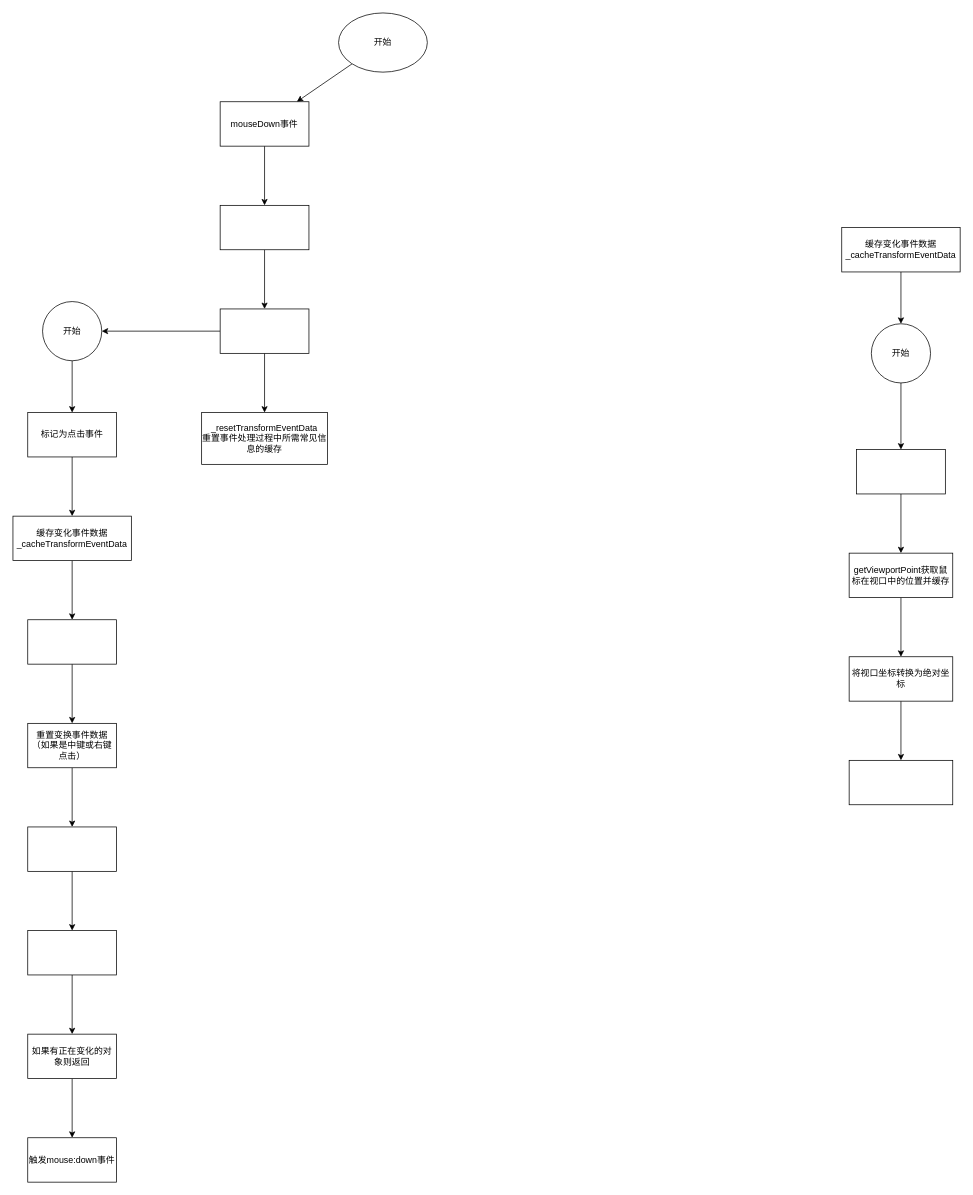
The diagram is 973 pixels wide and 1195 high, and some of its shapes have lost their labels. The shapes that lost their labels are listed below. From the top down, each one's centre as x and y in pixels, then its label:
(264,227): _onMouseDown
(264,330): __onMouseDown
(900,471): _resetTransformEventData
(72,641): down:before事件
(900,782): 查找当前事件的目标对象 findTarget
(72,848): 进入处理绘图模式下的鼠标按下事件（如果是在绘图模式下）
(72,952): 如果是多点触摸，非主要事件则返回
